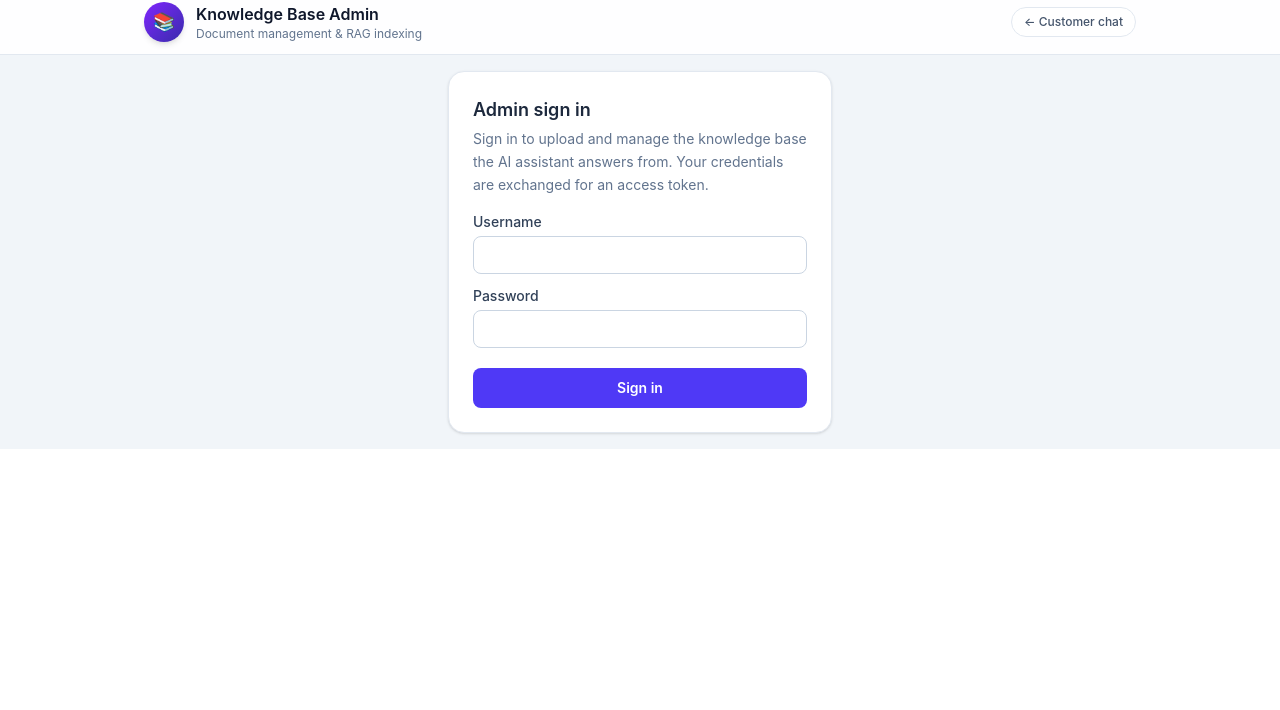
Test: KnowledgeBaseAdmin › deletes a document and shows a success toast
Type "admin" into the field labelled "Username" at (640,255), box [473,236,807,274]
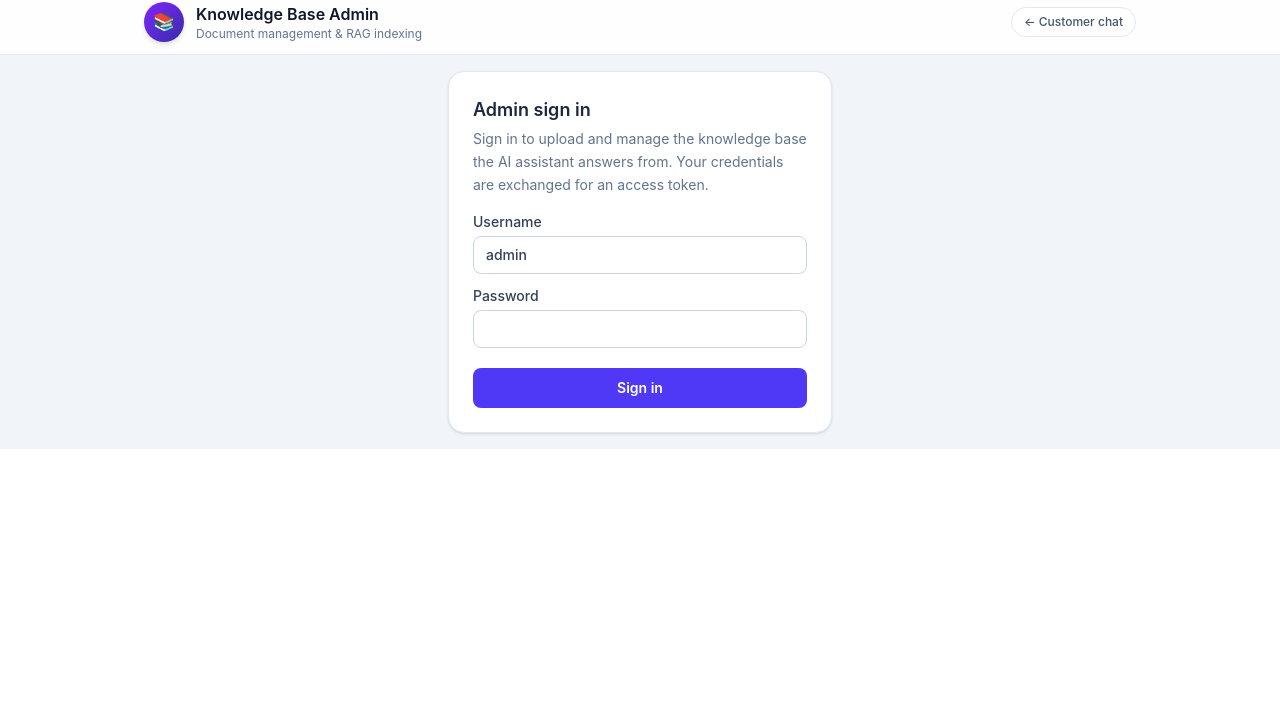
Type "admin123" into the password field labelled "Password" at (640,329), box [473,310,807,348]
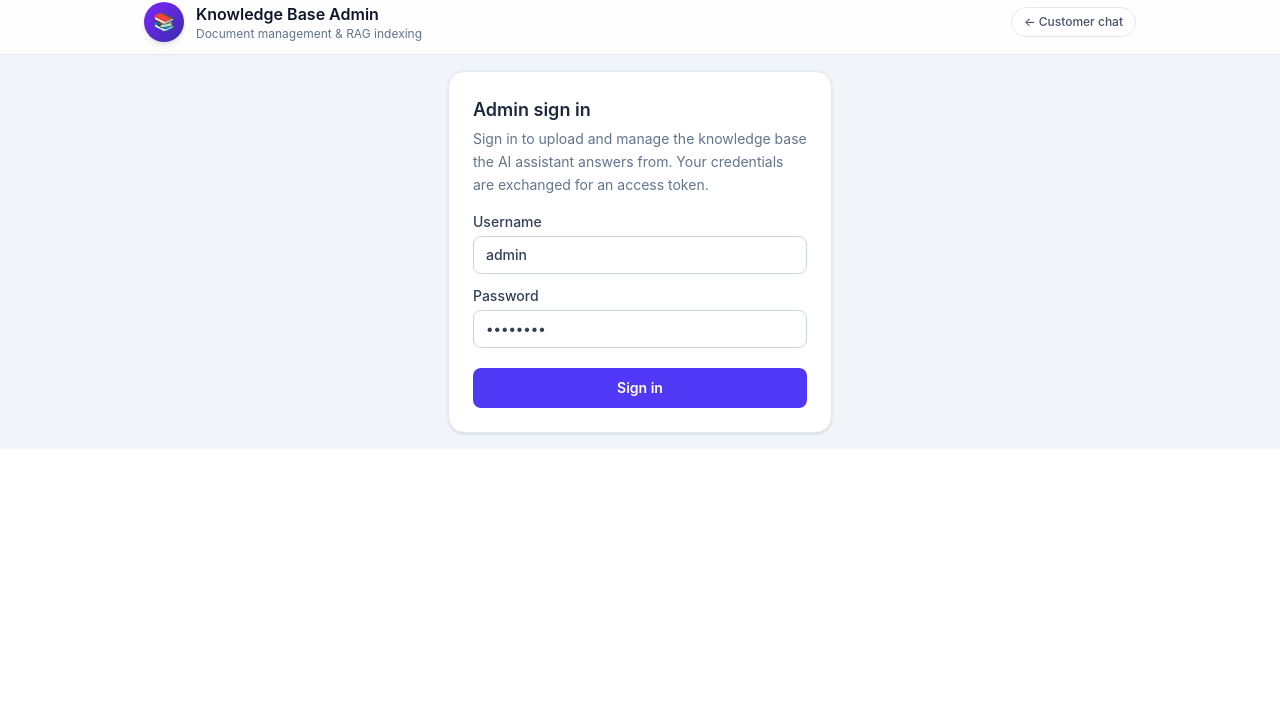
Submit the form, box [448,71,832,433]
(page scrolled)
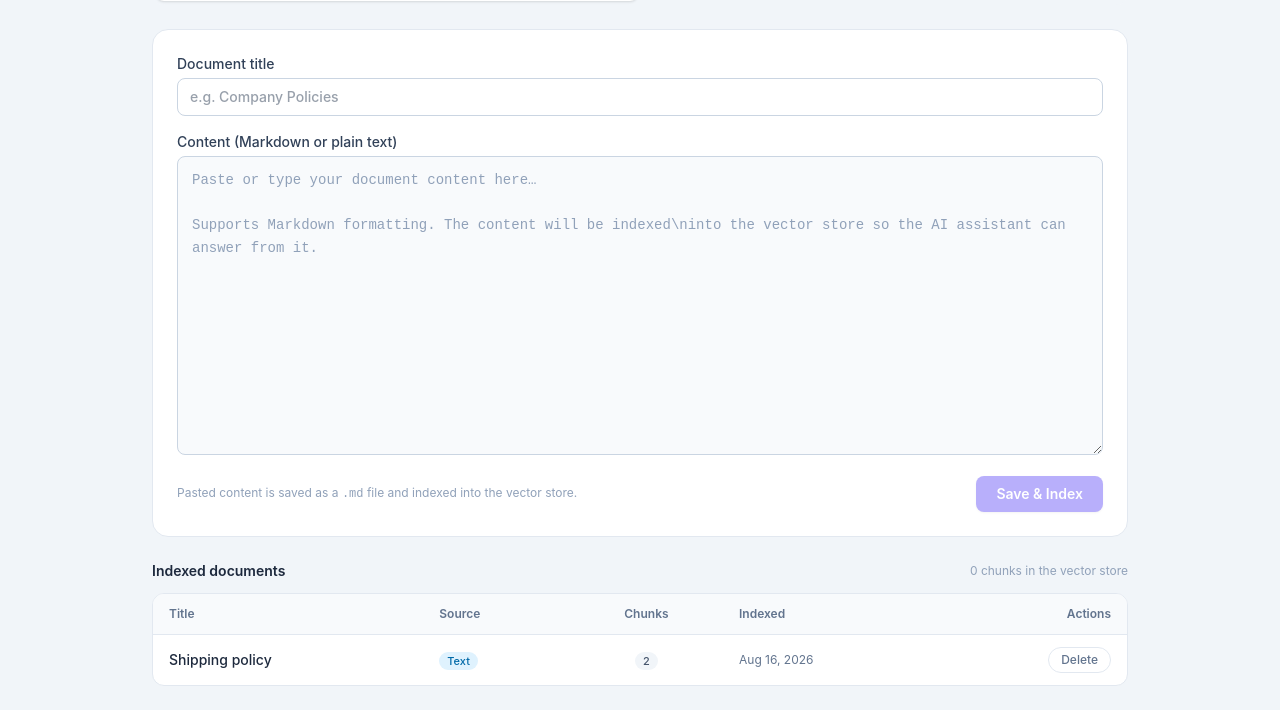
Click the button "Delete" at (1080,660), box [1048,647,1111,673]
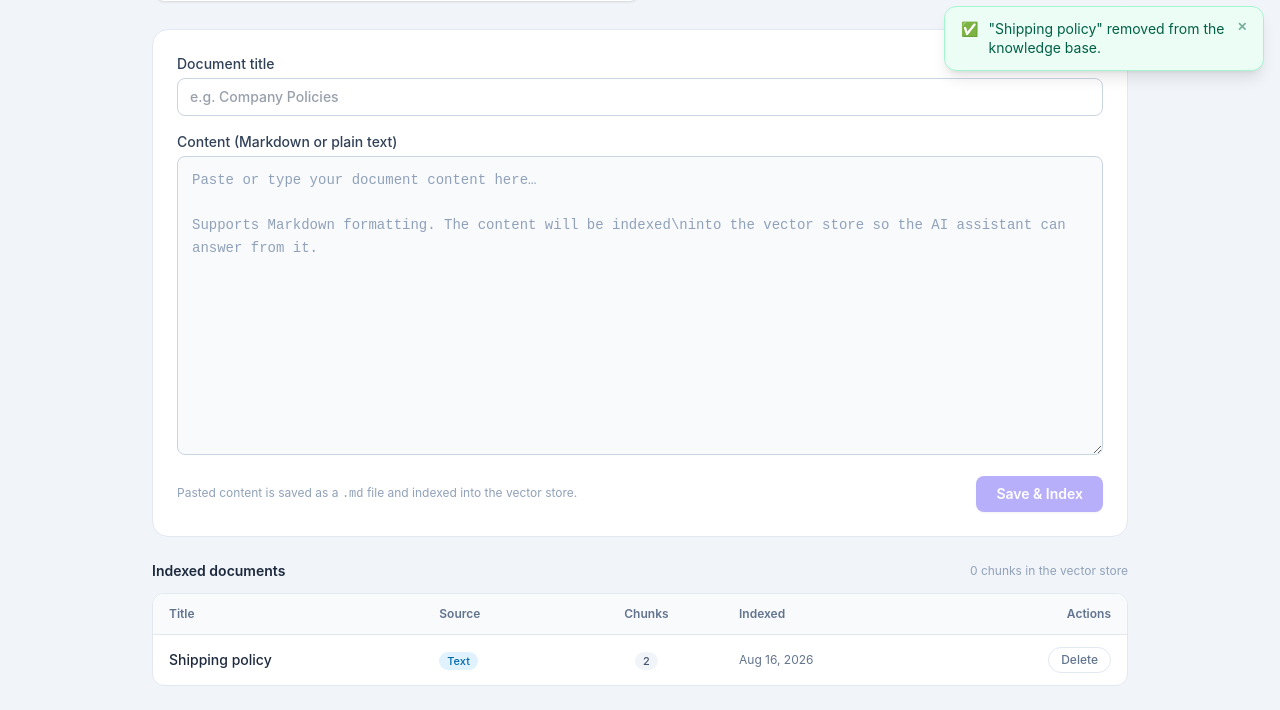
Now the text "removed from the knowledge base" is shown, box [988,20,1224,56]
